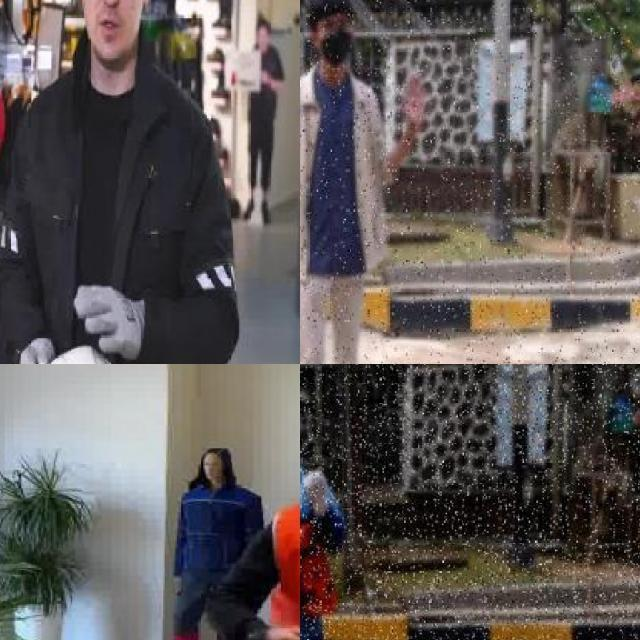apron: (72, 280, 146, 362), (300, 469, 332, 520), (16, 337, 54, 364)
